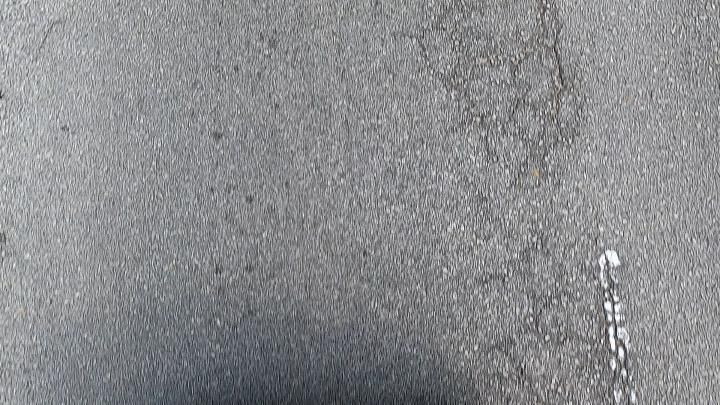Crack: (491, 0, 587, 162), (500, 0, 580, 162), (588, 246, 642, 405), (596, 250, 636, 404)
